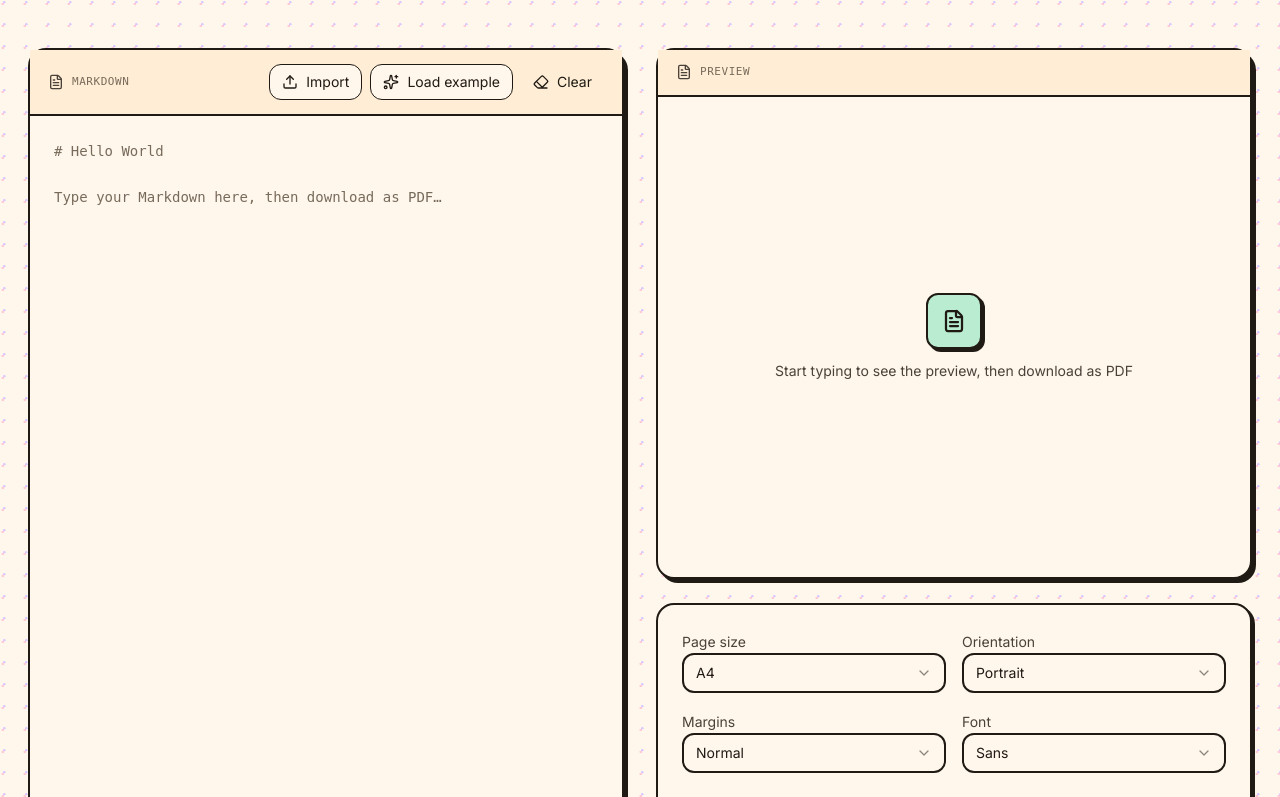
Test: MarkdownToPdfRoute › loads the example into the editor and preview
The width and height of the screenshot is (1280, 797).
Step 1. Click the button with test id "load-example" → (442, 82), box [370, 64, 513, 100]
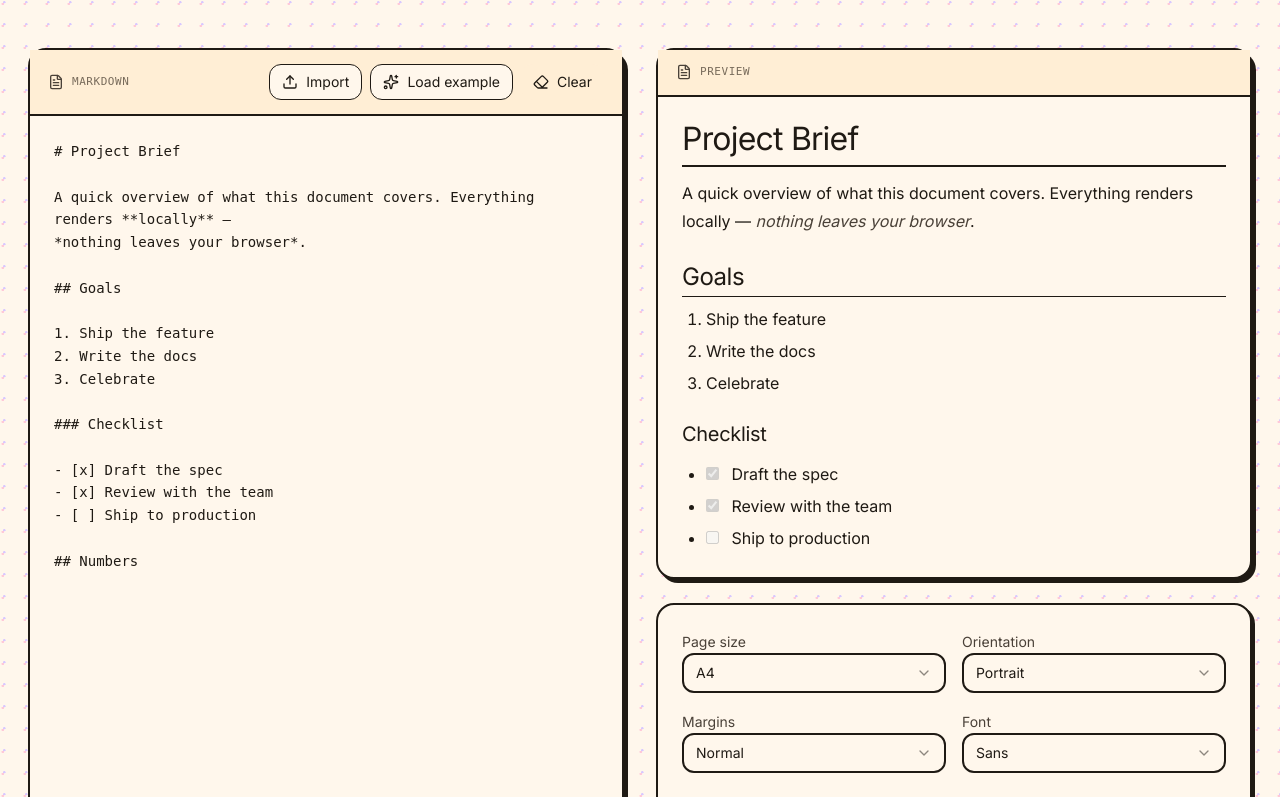
expect the heading "Project Brief" is shown: met, box [682, 120, 1226, 167]
